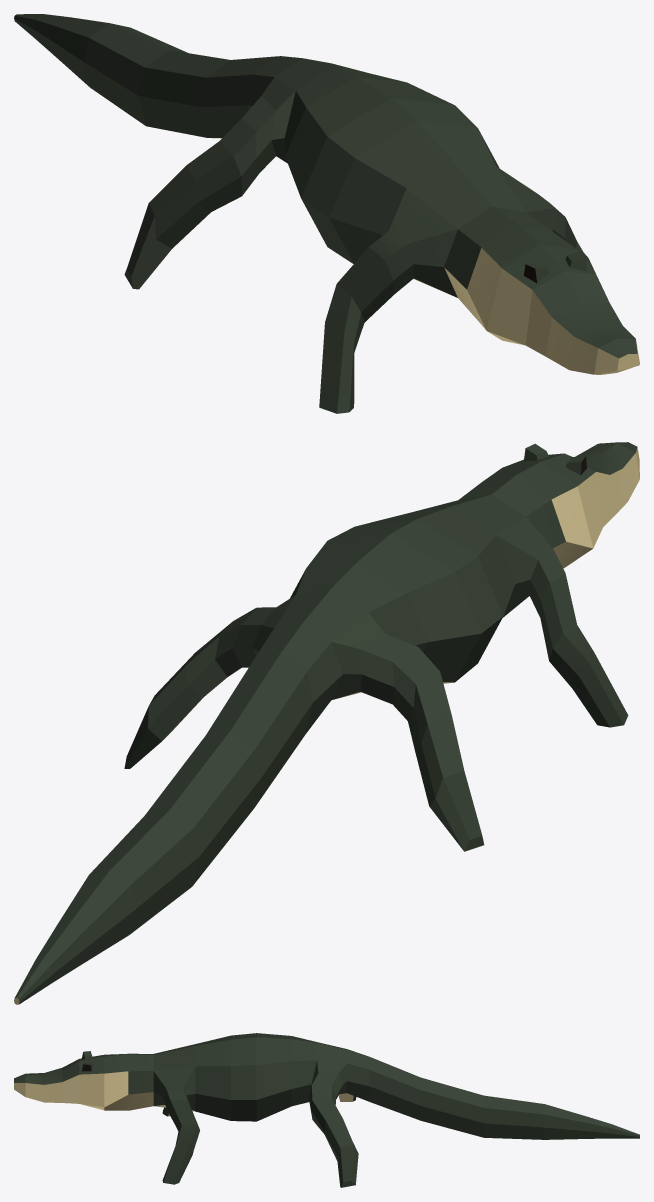
The model's file is Mesh_Alligator.obj.
3 views of the same model, one above another, from view 1: azimuth 30°, elevation 25°; view 2: azimuth 150°, elevation 25°; view 3: azimuth 270°, elevation 25° (orthographic). The views are drawn at different scales.
Parts seen in each view (by area): view 1: Geo_Alligator; view 2: Geo_Alligator; view 3: Geo_Alligator.
Boxes of the visible parts, <box> form: Geo_Alligator: <box>14,14,639,413</box>; Geo_Alligator: <box>14,442,639,1004</box>; Geo_Alligator: <box>14,1033,639,1187</box>.
Bounding box in the file's own units: 54.22 × 31.83 × 163.
1 material, 1 textured.
